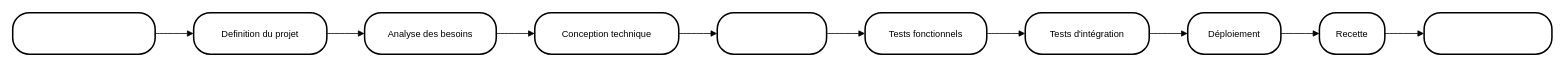
Image size: 1565x67. Some labels were removed from this diagram. The centre of each missing label's shape, as x and y in pixels:
Demande des métiers: pixel 84 33
Developpement: pixel 771 33
Mise en production: pixel 1487 33
